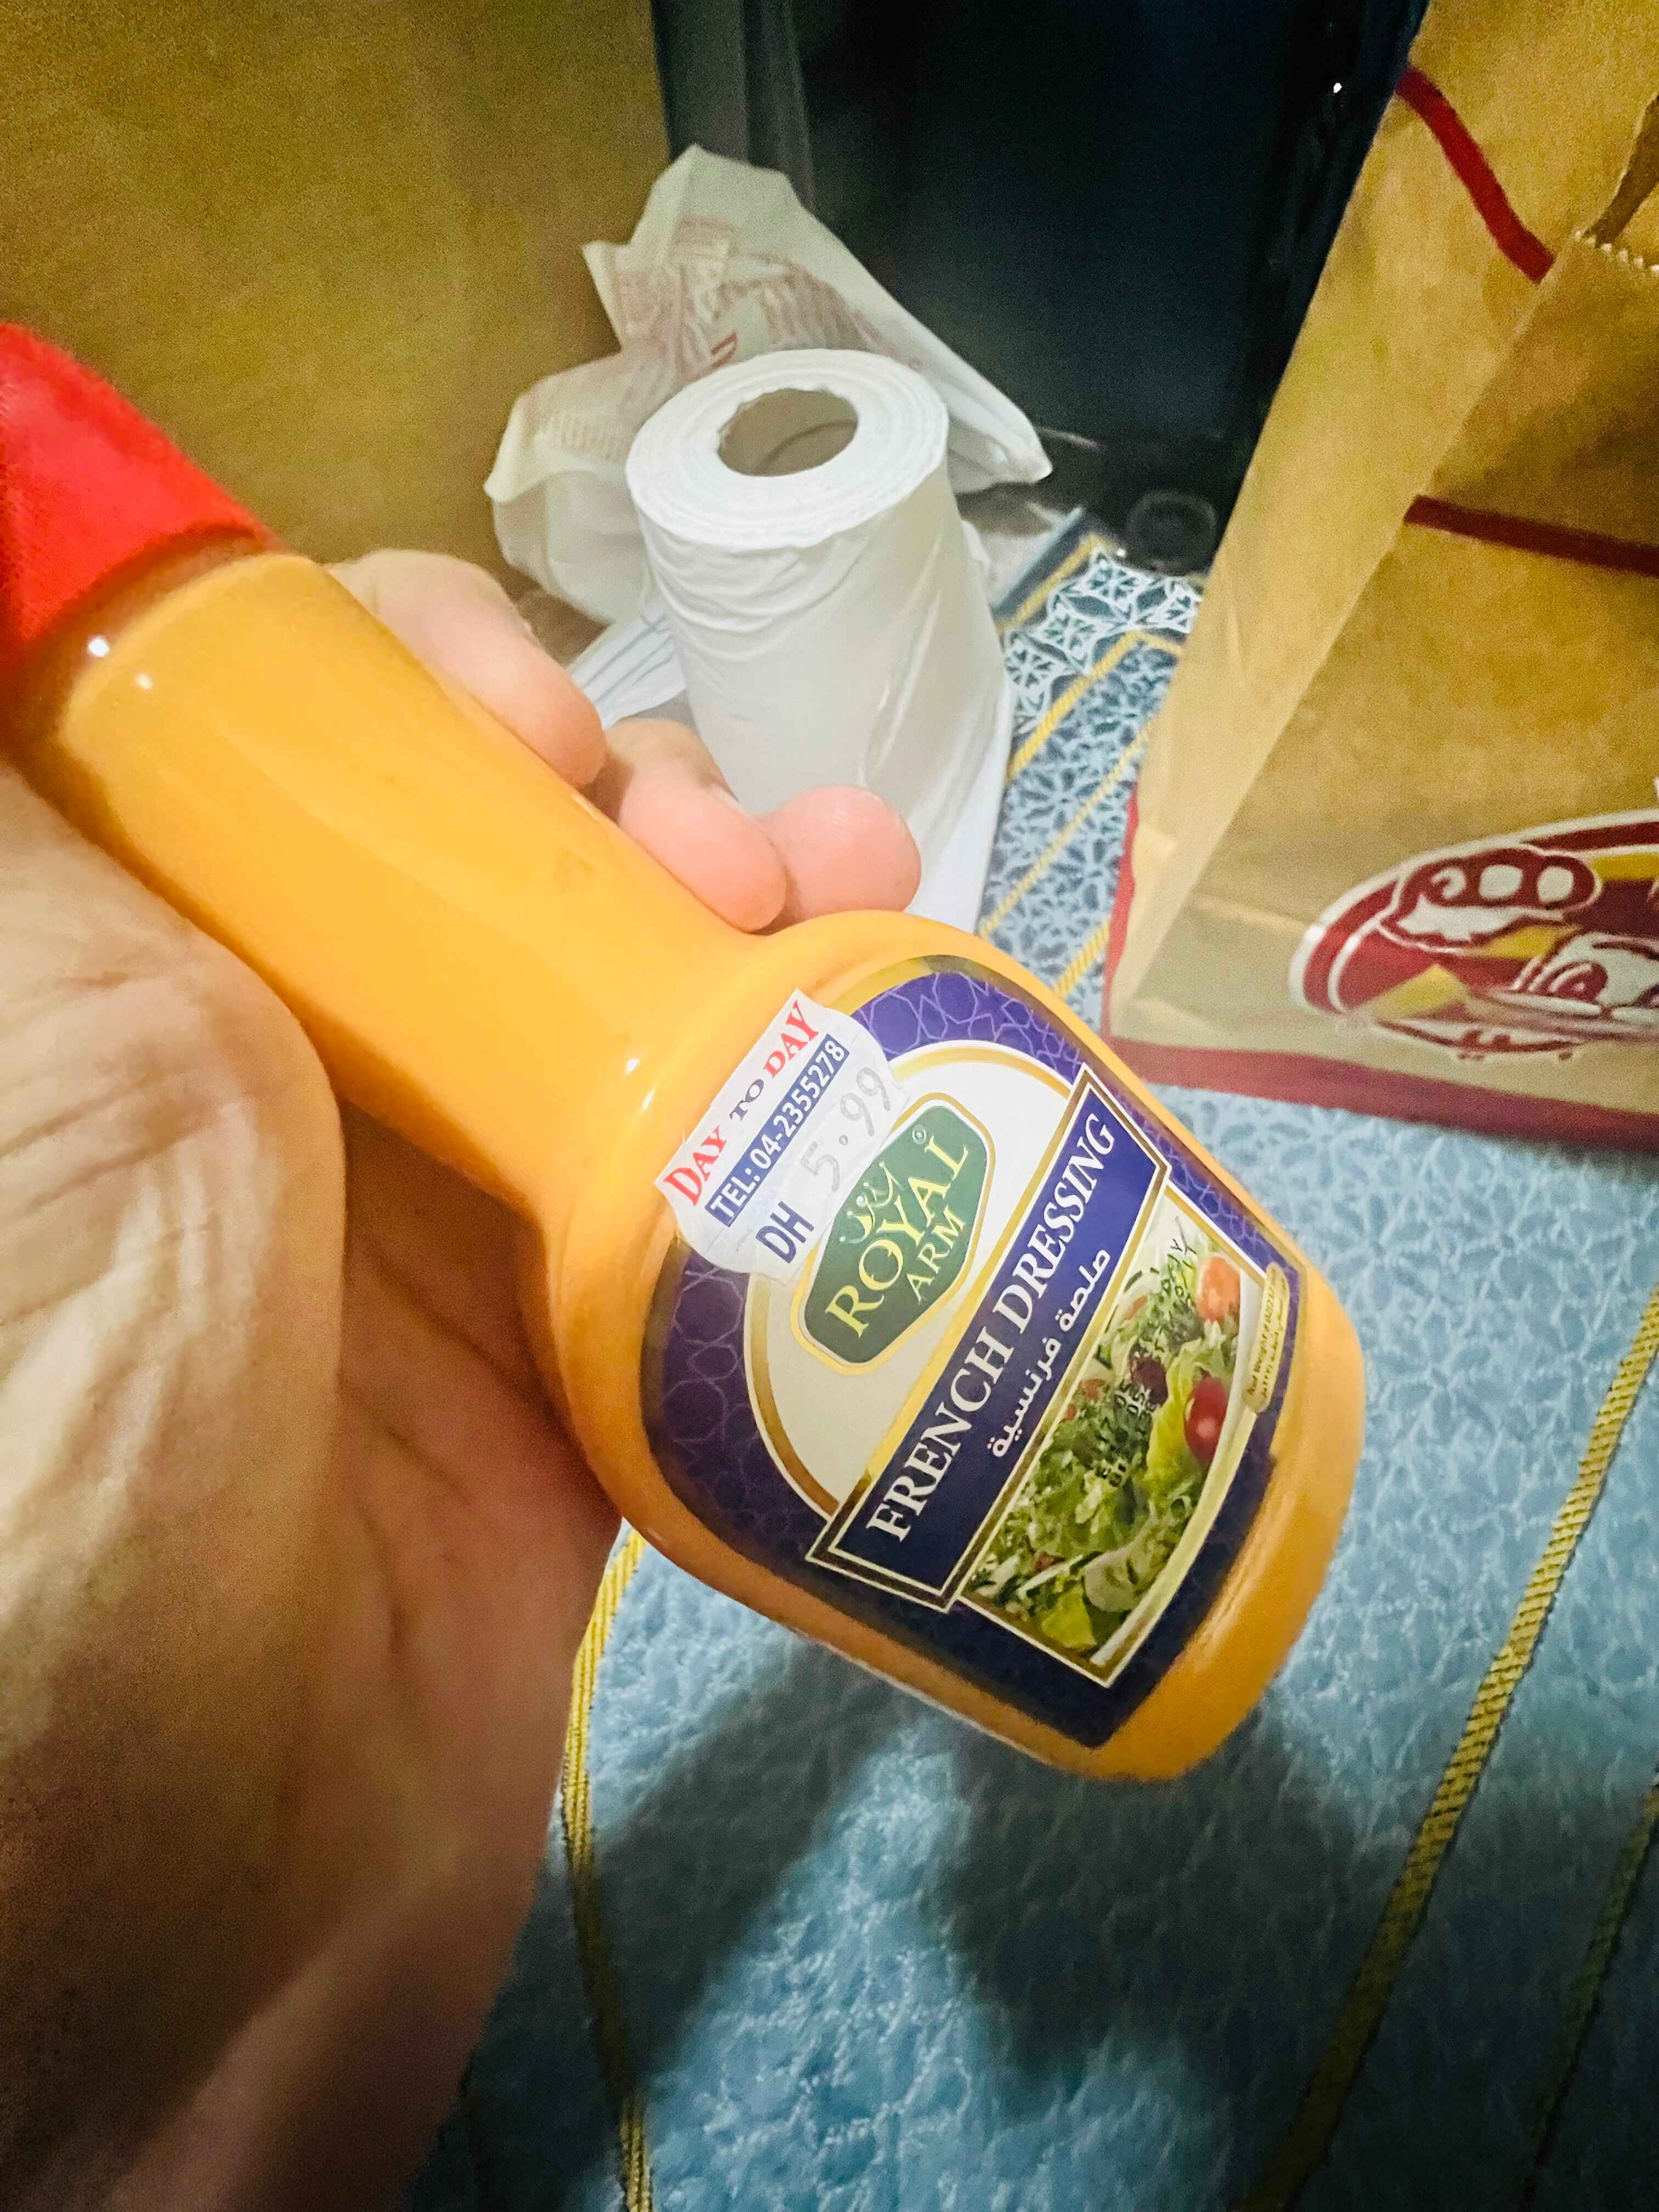PriceTagSmall: (657, 989, 903, 1277)
